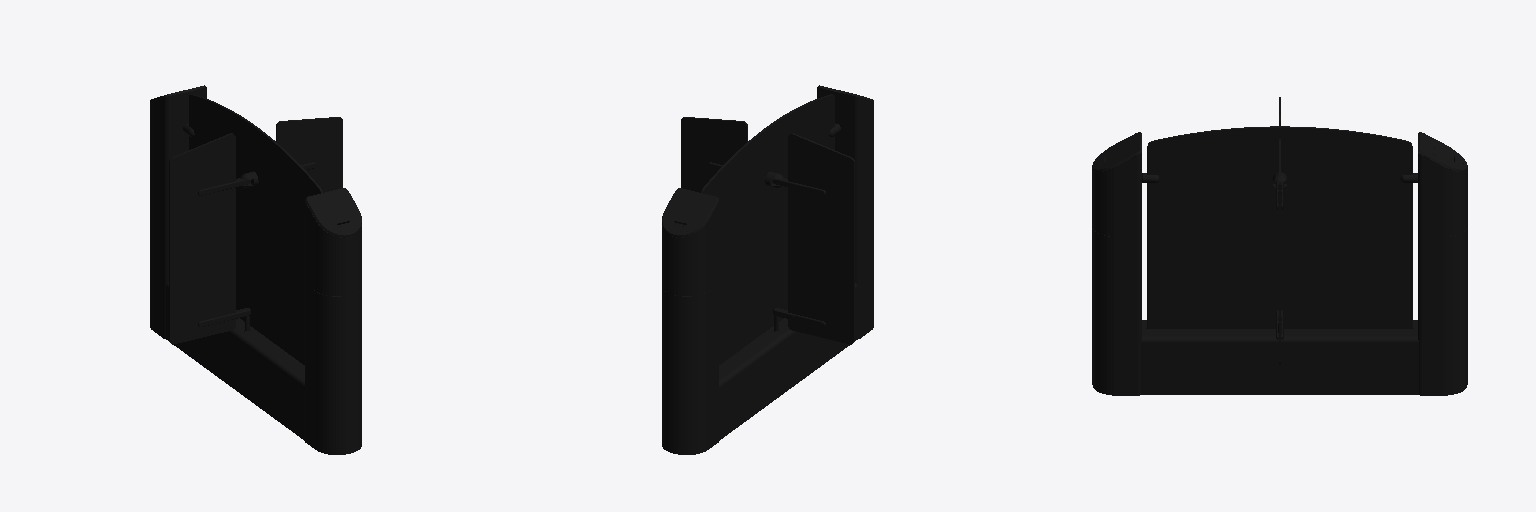
Rendered from turnstile_Praktika-t-04.obj.
3 renders of one model, left to right at view 1: azimuth 30°, elevation 25°; view 2: azimuth 150°, elevation 25°; view 3: azimuth 270°, elevation 25°, orthographic.
Visible parts, largest first — view 1: praktika_t_04_03, praktika_t_04_04, praktika_t_04_13, praktika_t_04_01, praktika_t_04_25, praktika_t_04_05; view 2: praktika_t_04_03, praktika_t_04_04, praktika_t_04_13, praktika_t_04_01, praktika_t_04_25, praktika_t_04_05; view 3: praktika_t_04_04, praktika_t_04_03, praktika_t_04_01, praktika_t_04_05.
Part boxes in pixels (x1,y1,x2,y2): praktika_t_04_03: (150,87,361,454); praktika_t_04_04: (189,94,322,364); praktika_t_04_13: (169,133,235,344); praktika_t_04_01: (166,283,304,440); praktika_t_04_25: (276,117,342,192); praktika_t_04_05: (150,85,361,237); praktika_t_04_03: (662,87,873,454); praktika_t_04_04: (701,94,834,364); praktika_t_04_13: (788,133,854,344); praktika_t_04_01: (719,283,857,440); praktika_t_04_25: (681,117,747,192); praktika_t_04_05: (662,85,873,237); praktika_t_04_04: (1147,126,1412,328); praktika_t_04_03: (1092,152,1467,395); praktika_t_04_01: (1141,320,1418,394); praktika_t_04_05: (1092,132,1467,171).
Bounding box in the file's own units: 800 × 1140 × 1501.